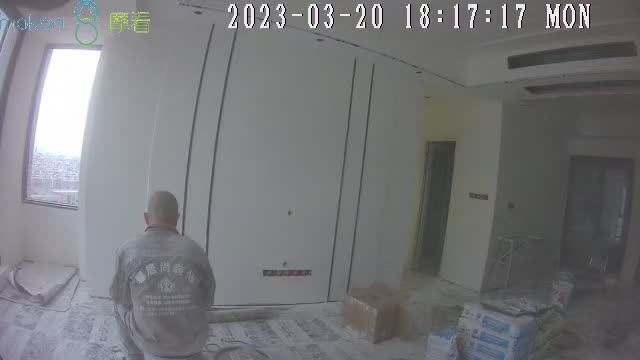people: (109, 190, 216, 360)
window: (23, 41, 102, 210)
